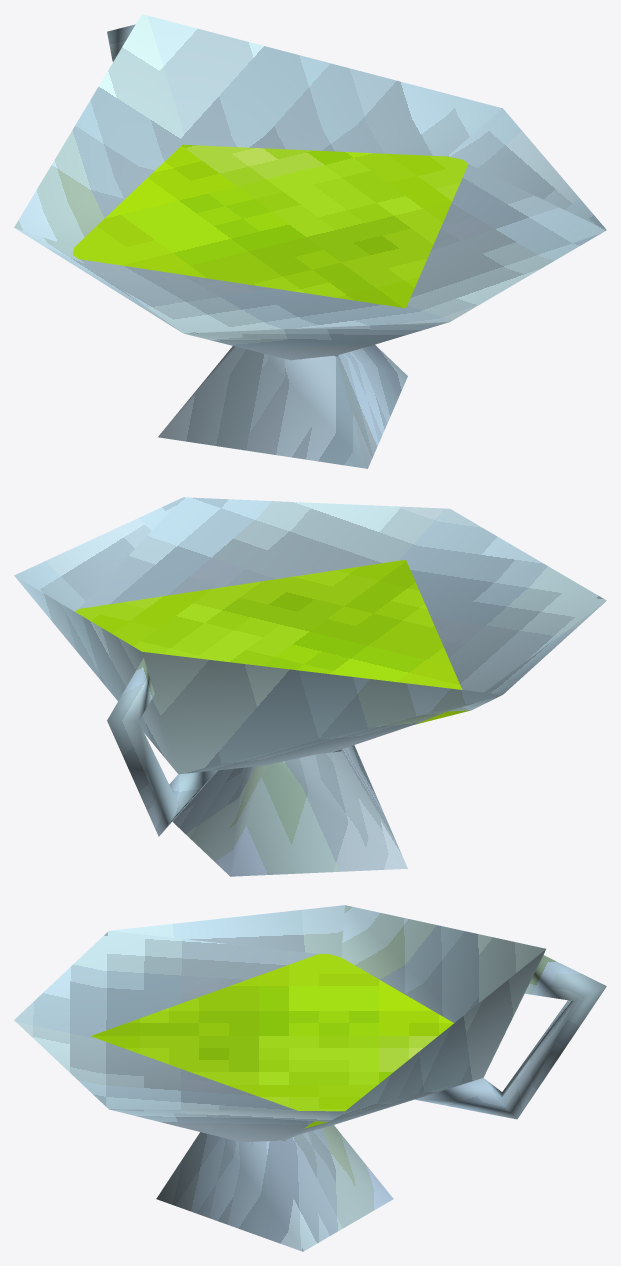
The model's file is edb_con_bowl_serving_full_l2.fbx.
3 views of the same model, one above another, from view 1: azimuth 30°, elevation 25°; view 2: azimuth 150°, elevation 25°; view 3: azimuth 270°, elevation 25° (orthographic). The views are drawn at different scales.
Visible parts, largest first — view 1: mesh_node; view 2: mesh_node; view 3: mesh_node.
Boxes of the visible parts, bbox=[...] form: mesh_node: bbox=[14, 14, 606, 468]; mesh_node: bbox=[14, 497, 606, 876]; mesh_node: bbox=[14, 905, 606, 1251].
Size of the model in its own units: 0.2326 by 0.1317 by 0.2827.
1 material, 1 textured.
